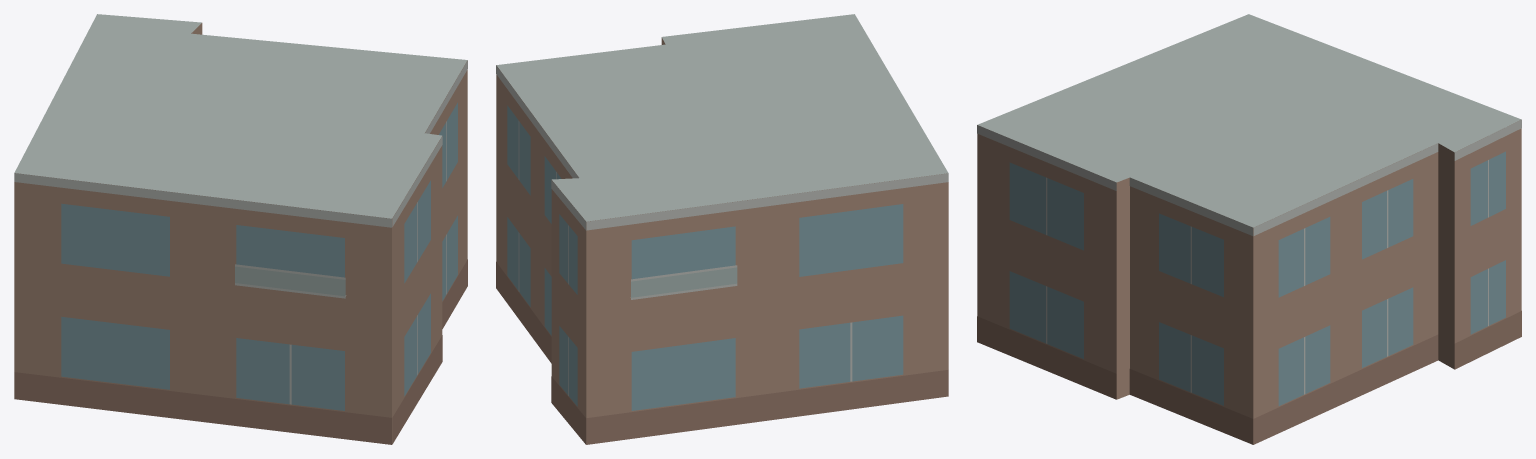
Rendered from survey-upis-32850795.glb.
3 renders of one model, left to right at view 1: azimuth 30°, elevation 25°; view 2: azimuth 150°, elevation 25°; view 3: azimuth 270°, elevation 25°, orthographic. The views are drawn at different scales.
Visible parts, largest first — view 1: survey-upis-32850795.tmp; view 2: survey-upis-32850795.tmp; view 3: survey-upis-32850795.tmp.
Boxes of the visible parts, box(x1,y1,x2,y2) form: survey-upis-32850795.tmp: box(14, 14, 467, 444); survey-upis-32850795.tmp: box(496, 14, 948, 444); survey-upis-32850795.tmp: box(977, 14, 1521, 444).
Size of the model in its own units: 12.87 by 6.1 by 13.87.
